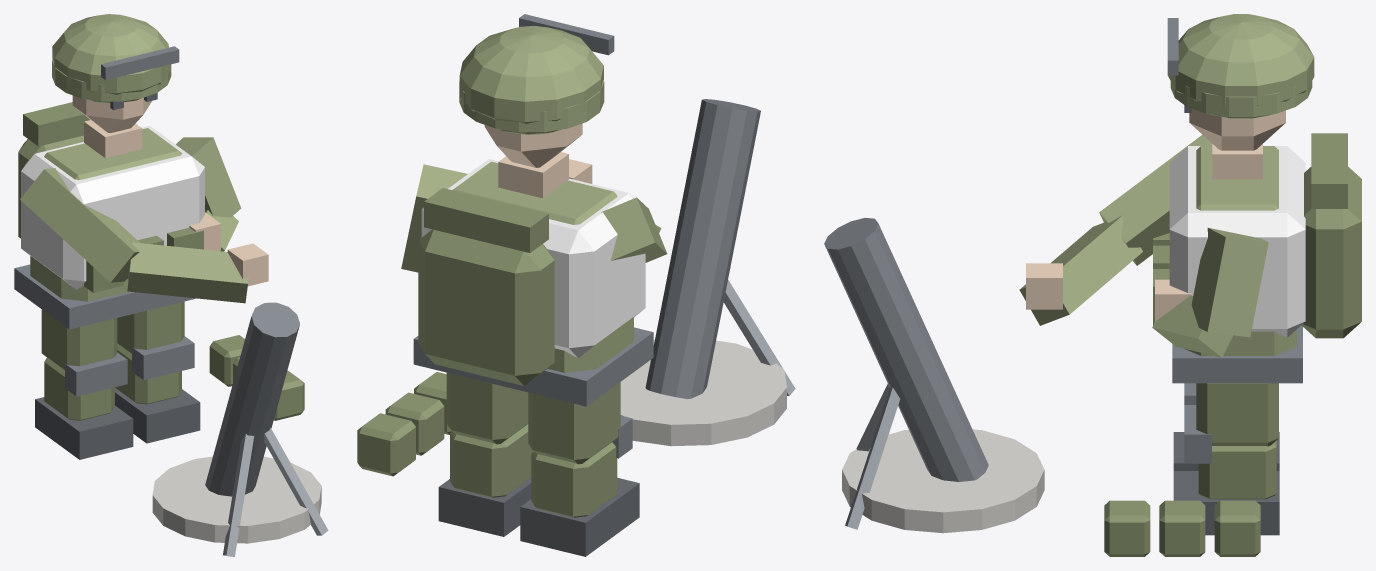
File: mortar.glb
The picture shows the model from 3 angles, left to right: view 1: azimuth 30°, elevation 25°; view 2: azimuth 150°, elevation 25°; view 3: azimuth 270°, elevation 25°; orthographic projection. The views are drawn at different scales.
Parts seen in each view (by area): view 1: main, shinl, shinr, legl, legr; view 2: main, shinl, shinr, legl, legr; view 3: main, shinr, legr, shinl.
Boxes of the visible parts, x1=… form: main: x1=14, y1=14, x2=328, y2=556; shinl: x1=35, y1=352, x2=133, y2=459; shinr: x1=115, y1=336, x2=200, y2=443; legl: x1=41, y1=309, x2=117, y2=370; legr: x1=117, y1=301, x2=184, y2=353; main: x1=357, y1=14, x2=795, y2=476; shinl: x1=520, y1=415, x2=639, y2=556; shinr: x1=438, y1=424, x2=533, y2=536; legl: x1=528, y1=382, x2=620, y2=464; legr: x1=446, y1=372, x2=528, y2=444; main: x1=824, y1=14, x2=1361, y2=556; shinr: x1=1173, y1=405, x2=1279, y2=535; legr: x1=1196, y1=383, x2=1278, y2=446; shinl: x1=1173, y1=383, x2=1279, y2=470.
Size of the model in its own units: 0.3489 by 0.5773 by 0.5846.
